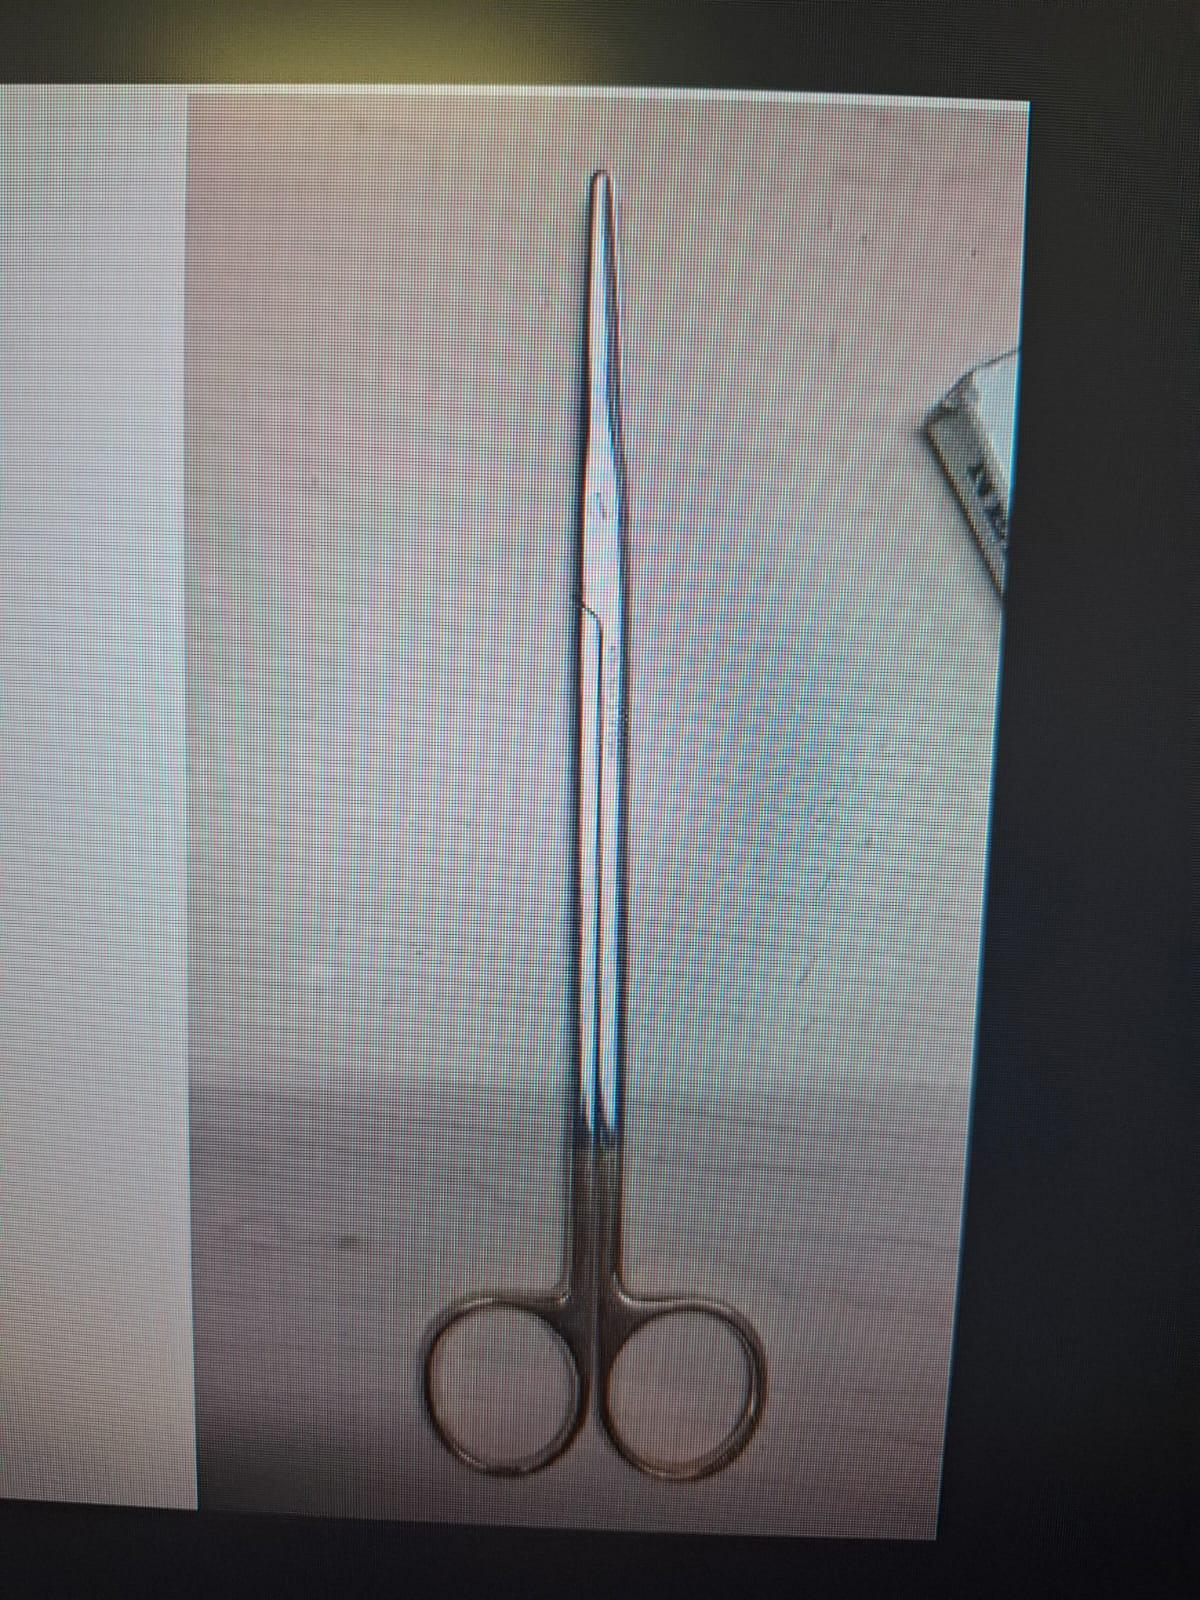Metzenbaum Sciccors: (405, 158, 780, 1502)
